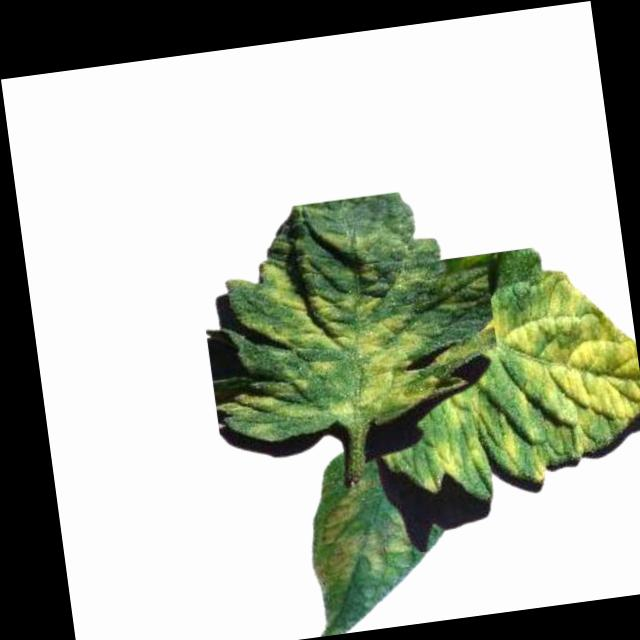Leaf_Mold: (409, 259, 640, 493), (198, 219, 439, 439), (302, 474, 414, 592)
